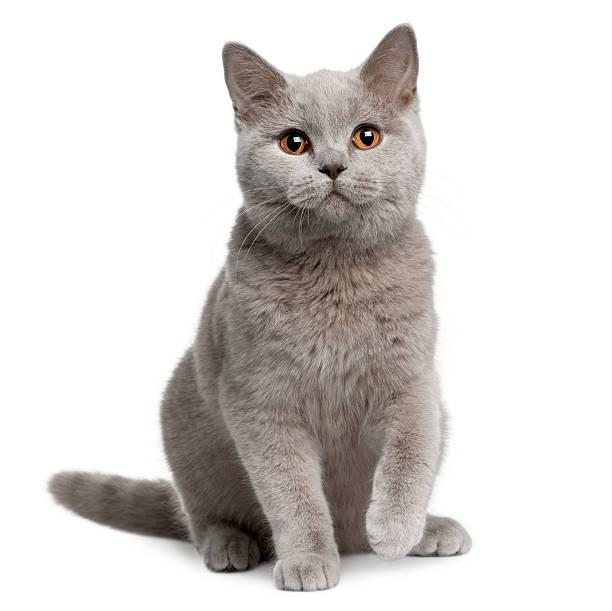kedo: (46, 23, 471, 592)
